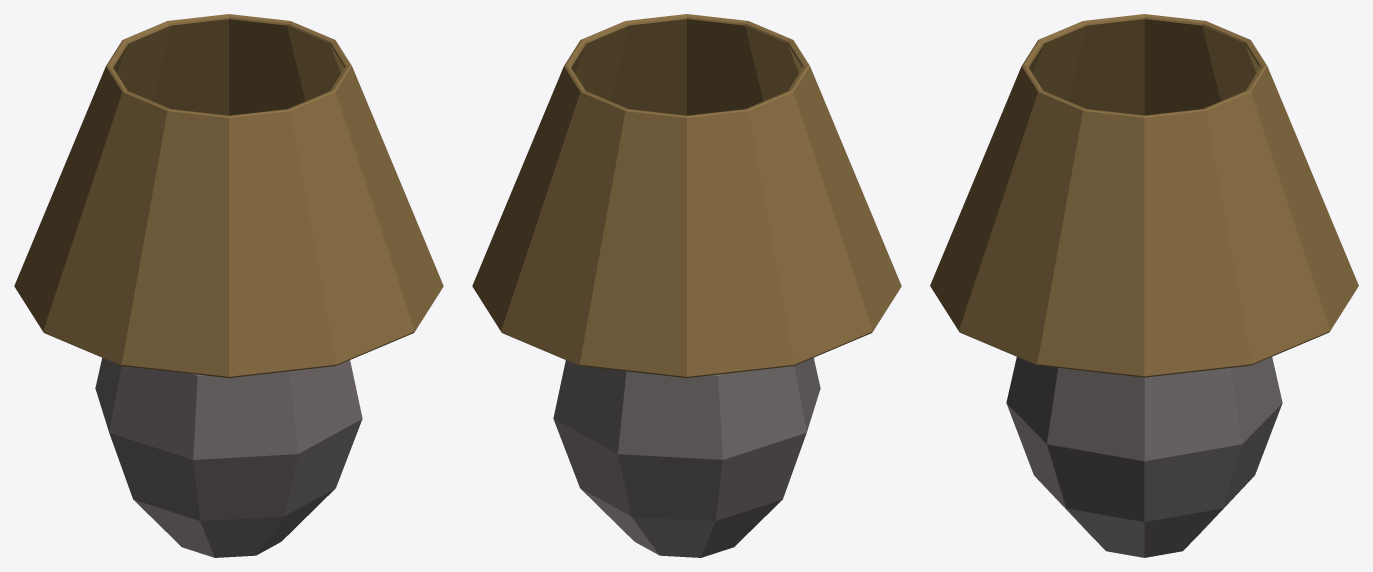
Rendered from BedsideLamp1.glb.
3 renders of one model, left to right at view 1: azimuth 30°, elevation 25°; view 2: azimuth 150°, elevation 25°; view 3: azimuth 270°, elevation 25°, orthographic.
Visible parts, largest first — view 1: BedsideLamp1; view 2: BedsideLamp1; view 3: BedsideLamp1.
Part boxes in pixels (x1,y1,x2,y2): BedsideLamp1: [14, 14, 443, 557]; BedsideLamp1: [472, 14, 901, 557]; BedsideLamp1: [930, 14, 1358, 557].
Size of the model in its own units: 0.3461 by 0.4185 by 0.3461.
